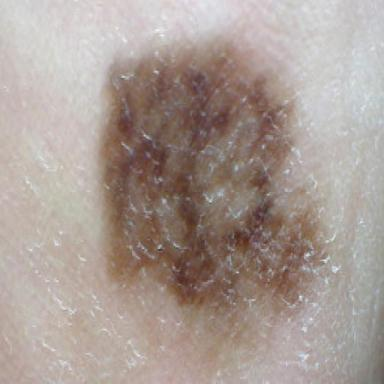Melanoma: (97, 41, 324, 321)
